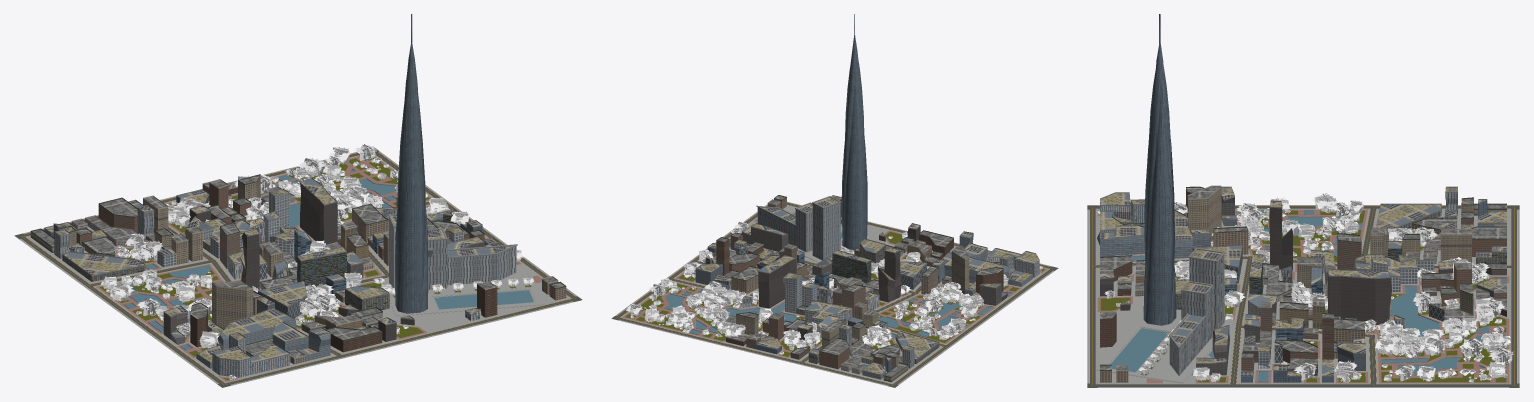
The model's file is building.gltf.
3 views of the same model, side by side, from view 1: azimuth 30°, elevation 25°; view 2: azimuth 150°, elevation 25°; view 3: azimuth 270°, elevation 25° (orthographic). The views are drawn at different scales.
Visible parts, largest first — view 1: Building facades (linkset 5).001, Roofs and parkinglot (linkset 6).001, Infrastructure (linkset 1).001, Plane.013, Modern building roof line (linkset 4).001, Old building roof line (linkset 3).001, Plane.001, Grass.001, ground, Plane.011, Plane.010; view 2: Building facades (linkset 5).001, Roofs and parkinglot (linkset 6).001, Infrastructure (linkset 1).001, Plane.013, Plane.001, Modern building roof line (linkset 4).001, Old building roof line (linkset 3).001, Grass.001, Plane.011; view 3: Building facades (linkset 5).001, Infrastructure (linkset 1).001, Roofs and parkinglot (linkset 6).001, Plane.013, Modern building roof line (linkset 4).001, Plane.001, Old building roof line (linkset 3).001, Grass.001, ground, Plane.011, Plane.010.
Boxes of the visible parts, x1,y1,x2,y2 form: Building facades (linkset 5).001: (30, 175, 566, 377); Roofs and parkinglot (linkset 6).001: (32, 175, 564, 362); Infrastructure (linkset 1).001: (14, 147, 582, 387); Plane.013: (394, 14, 428, 313); Modern building roof line (linkset 4).001: (44, 178, 498, 363); Old building roof line (linkset 3).001: (30, 174, 566, 358); Plane.001: (389, 217, 516, 289); Grass.001: (100, 157, 517, 380); ground: (381, 267, 544, 316); Plane.011: (391, 215, 510, 256); Plane.010: (388, 213, 517, 258); Building facades (linkset 5).001: (695, 198, 1039, 382); Roofs and parkinglot (linkset 6).001: (694, 195, 1038, 377); Infrastructure (linkset 1).001: (611, 201, 1058, 387); Plane.013: (841, 14, 867, 249); Plane.001: (757, 202, 840, 260); Modern building roof line (linkset 4).001: (693, 217, 1039, 375); Old building roof line (linkset 3).001: (711, 195, 1003, 377); Grass.001: (625, 231, 1044, 356); Plane.011: (762, 197, 838, 224); Building facades (linkset 5).001: (1097, 187, 1506, 382); Infrastructure (linkset 1).001: (1087, 205, 1519, 387); Roofs and parkinglot (linkset 6).001: (1099, 186, 1506, 375); Plane.013: (1143, 14, 1176, 325); Modern building roof line (linkset 4).001: (1099, 186, 1506, 376); Plane.001: (1169, 254, 1224, 375); Old building roof line (linkset 3).001: (1100, 185, 1506, 370); Grass.001: (1100, 210, 1506, 382); ground: (1095, 312, 1236, 383); Plane.011: (1171, 249, 1222, 345); Plane.010: (1169, 247, 1225, 348).
Bounding box in the file's own units: 615 × 576 × 615.
41 materials, 36 textured.
